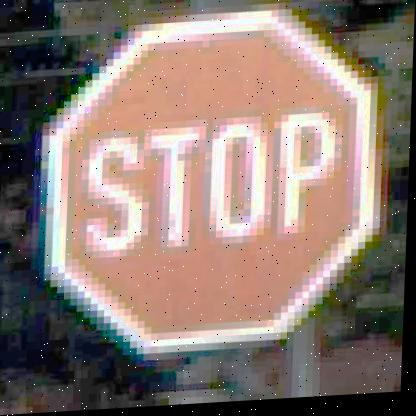Stop Sign: (39, 6, 390, 366)
